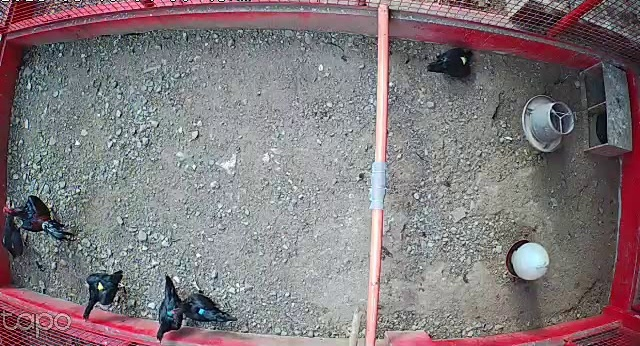Chicken: (168, 291, 241, 325), (156, 272, 188, 346), (80, 266, 122, 321), (425, 44, 476, 78), (2, 205, 27, 262)
Rooster: (1, 193, 72, 241)
Saddle_Color_Blue: (198, 307, 206, 315)
Saddle_Color_Yellow: (97, 281, 102, 291)
Saddle_Color_YellowGreen: (460, 56, 468, 65)
